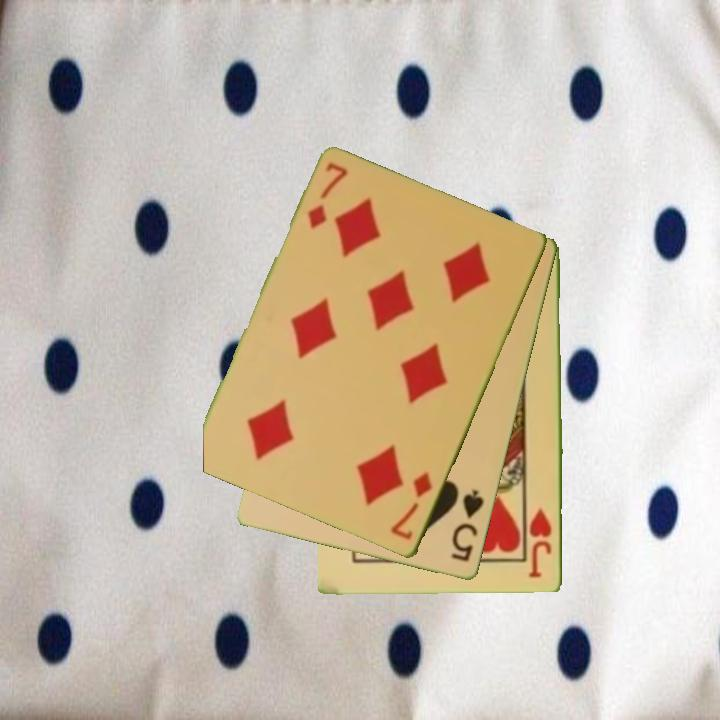5s: (447, 486, 487, 566)
7d: (387, 469, 436, 544), (304, 159, 350, 233)
Jh: (526, 505, 555, 581)
